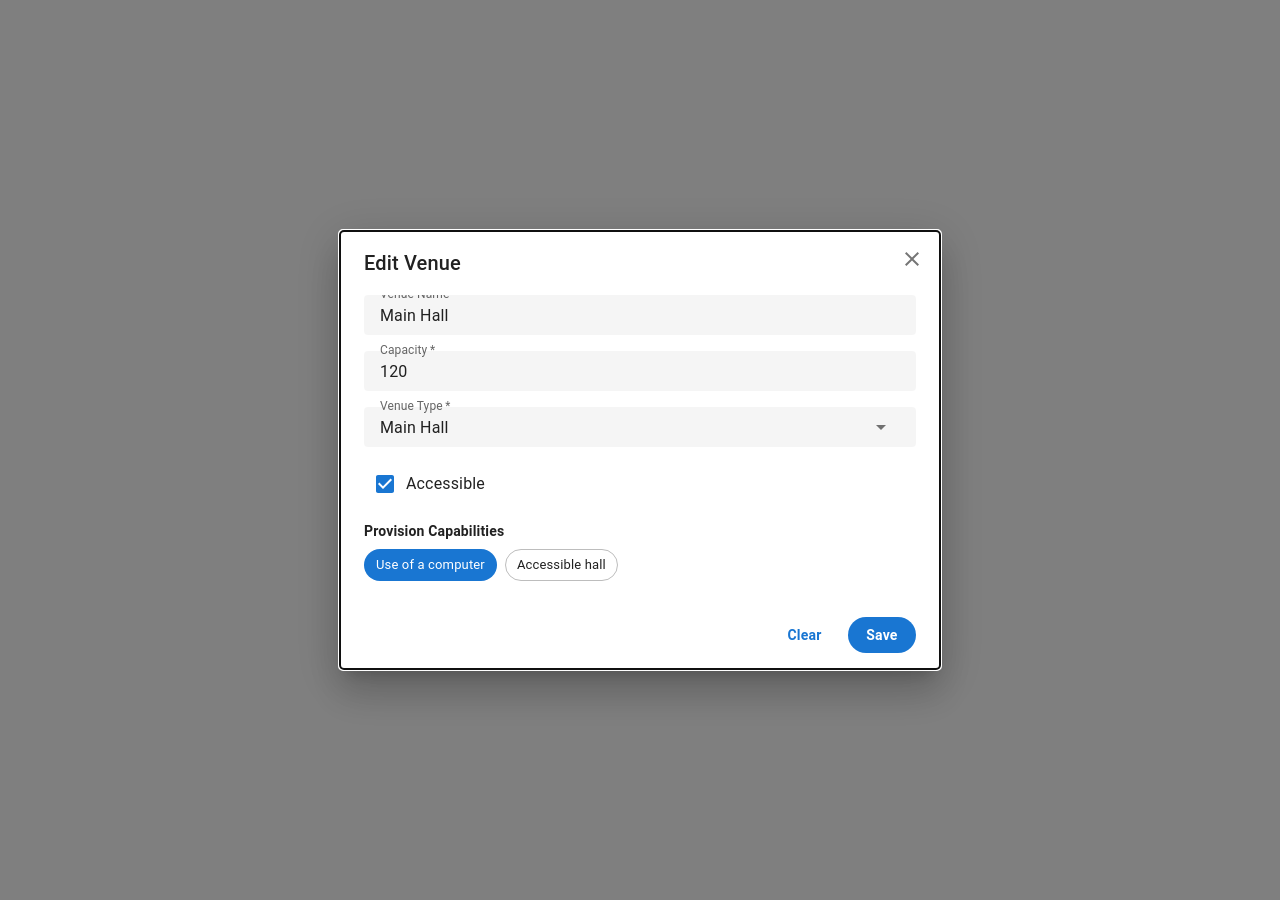
it: Components - EditVenueDialog › resets to original values when Clear is clicked
Replace the text in the field labelled "Venue Name *" with "Room B": (640, 315) [380, 304, 900, 327]
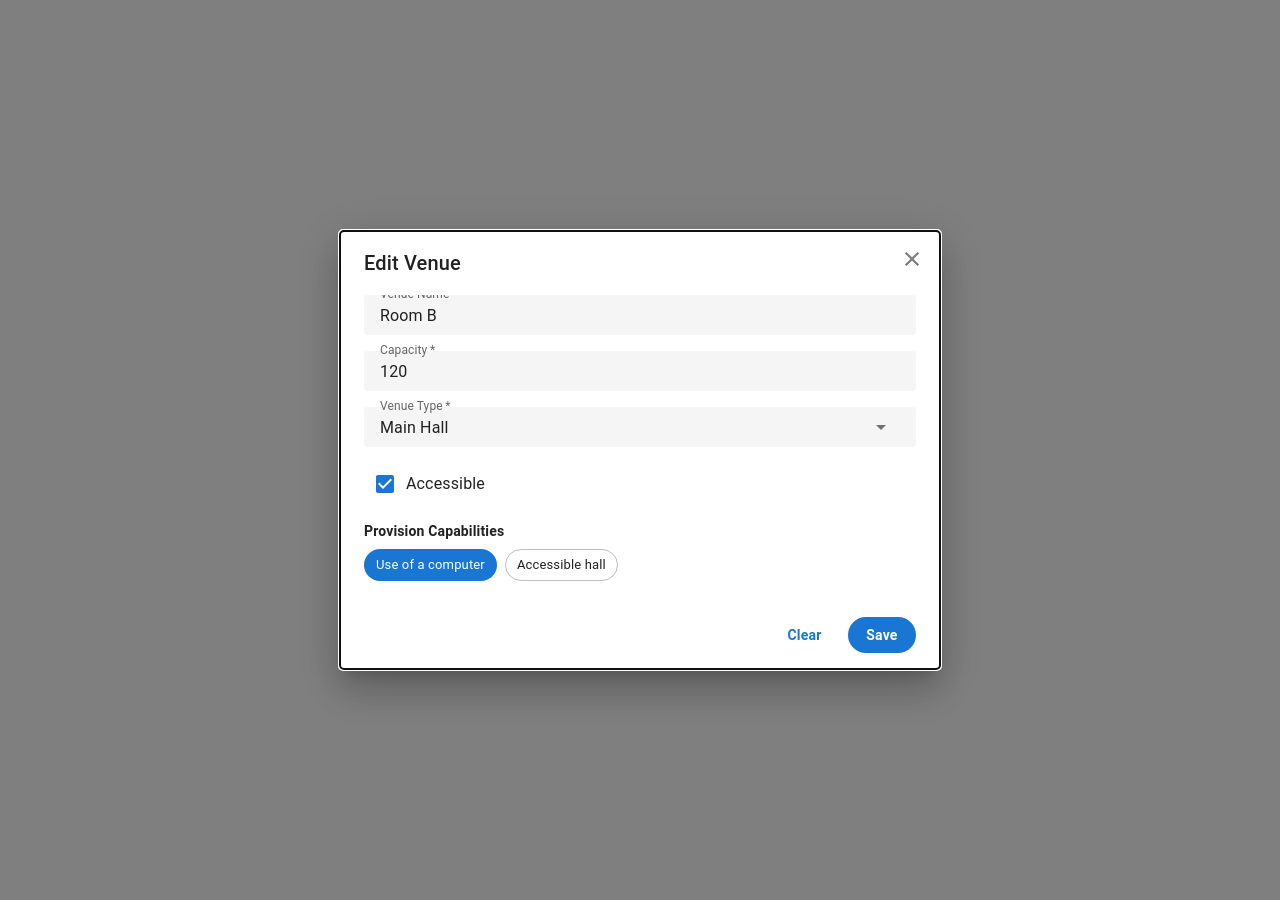
Click the button "Clear": (804, 635) [769, 617, 840, 653]
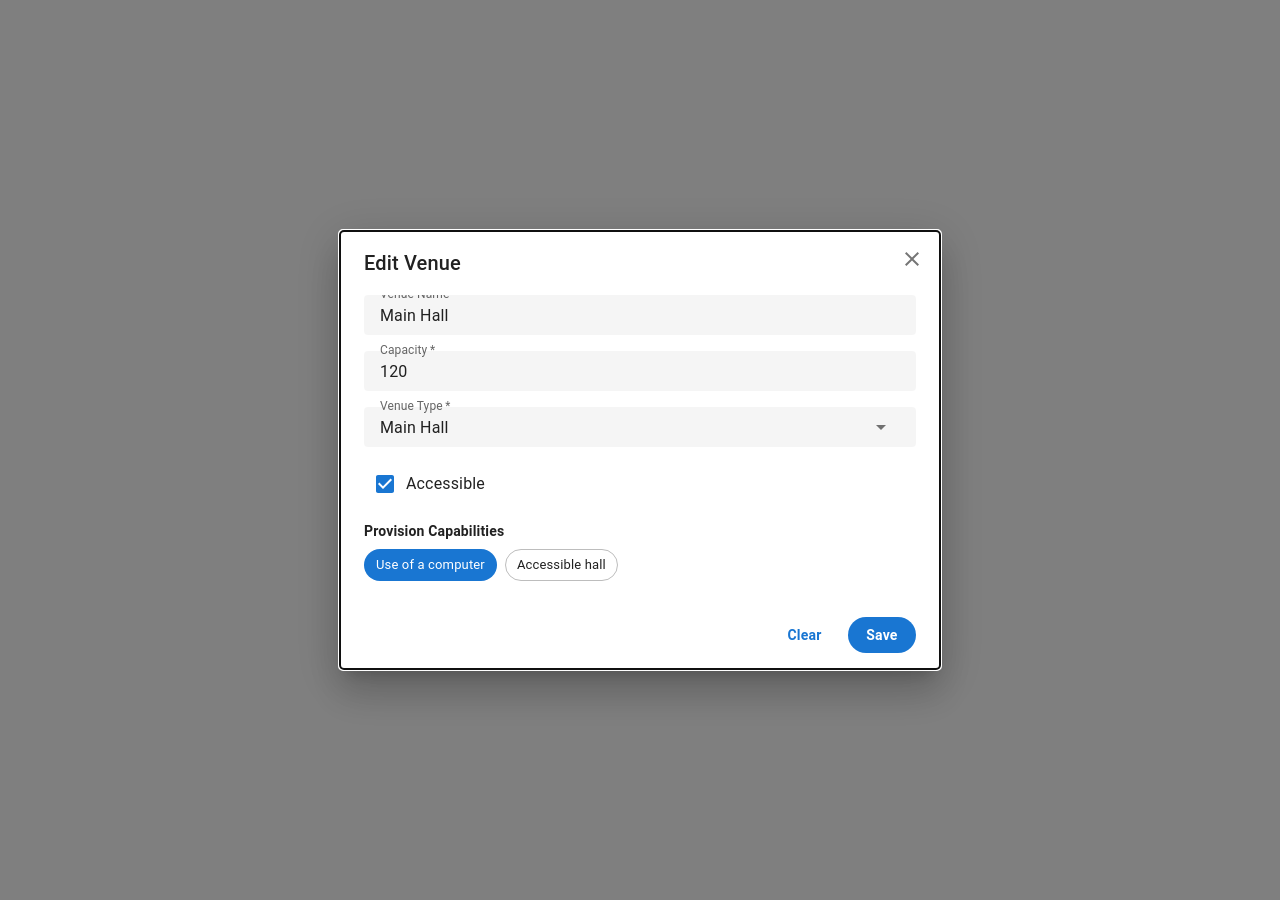
Expected: the field labelled "Venue Name *" holds "Main Hall", [380, 304, 900, 327]
